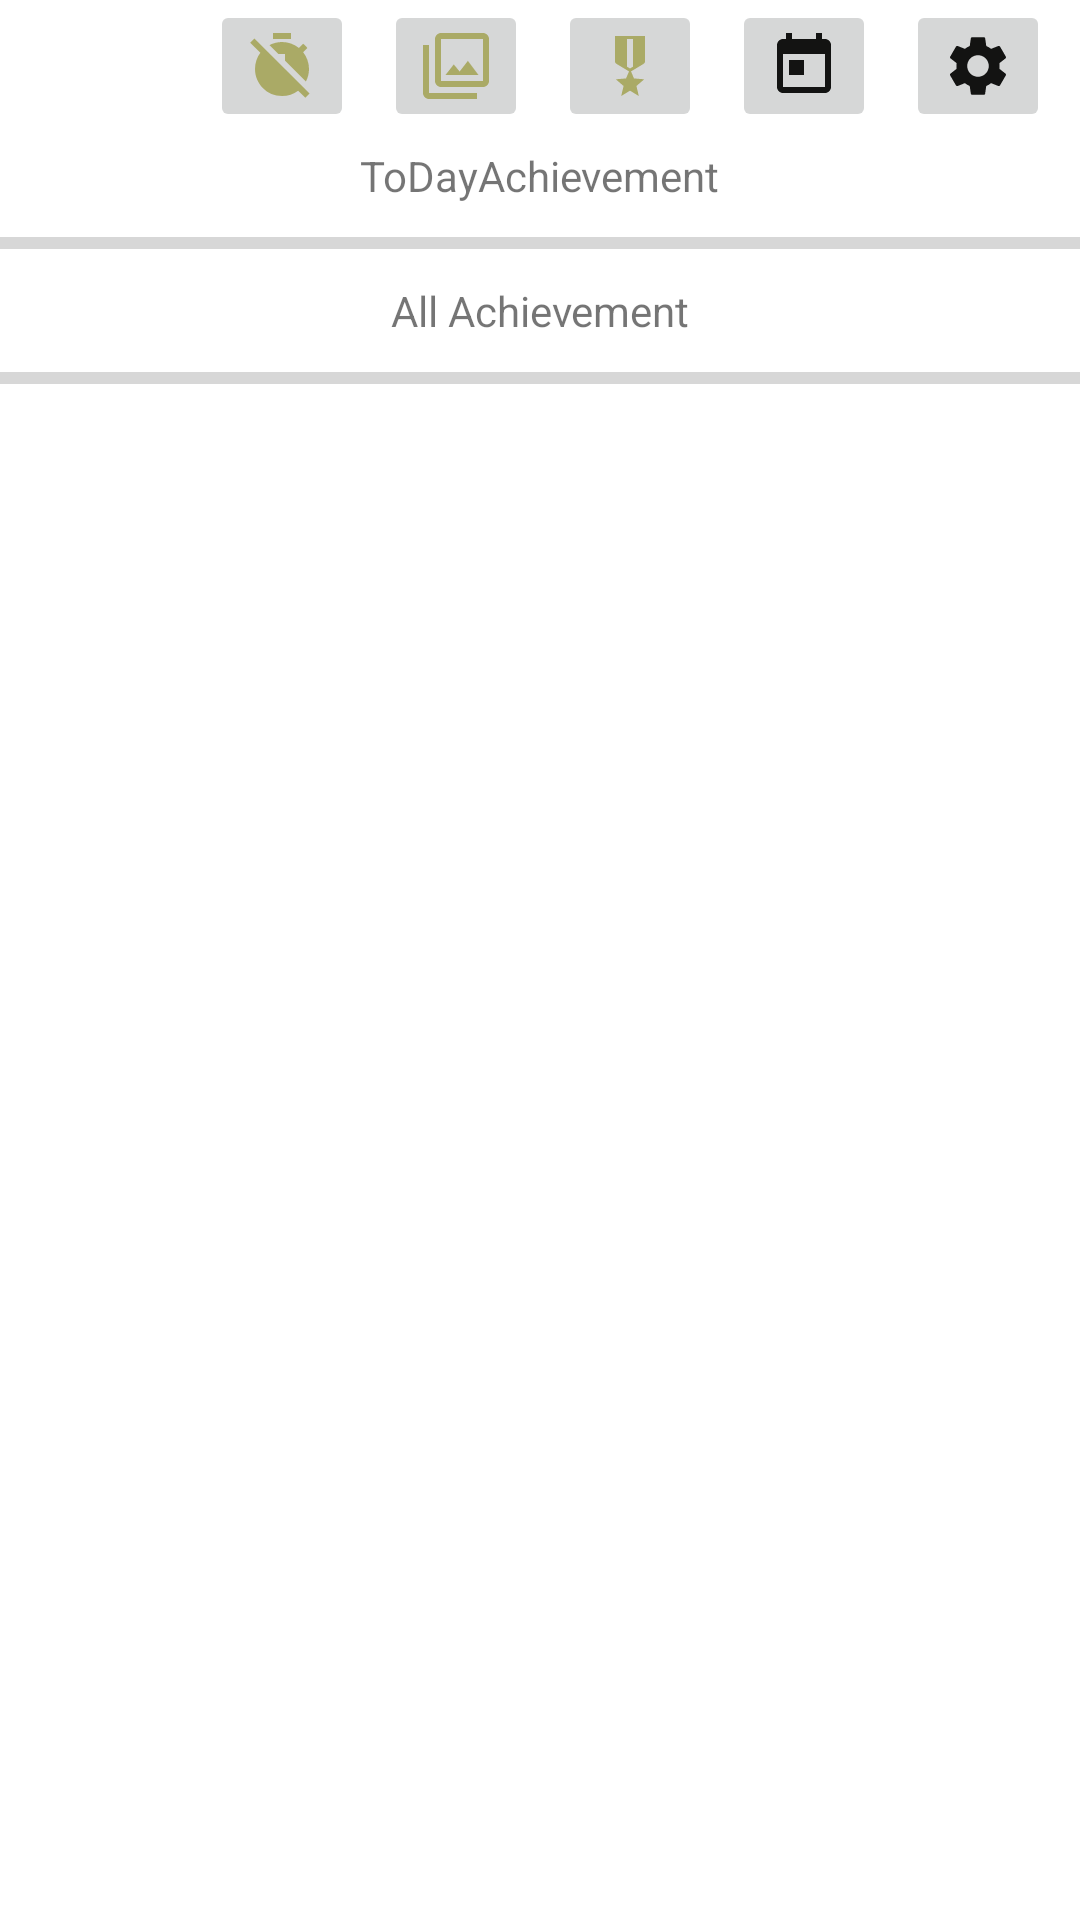

Named icons in this screenshot (1080×1920) and their centers, point (x, y):
filter: point (456, 66)
military tech: point (630, 66)
settings: point (978, 66)
timer off: point (282, 66)
